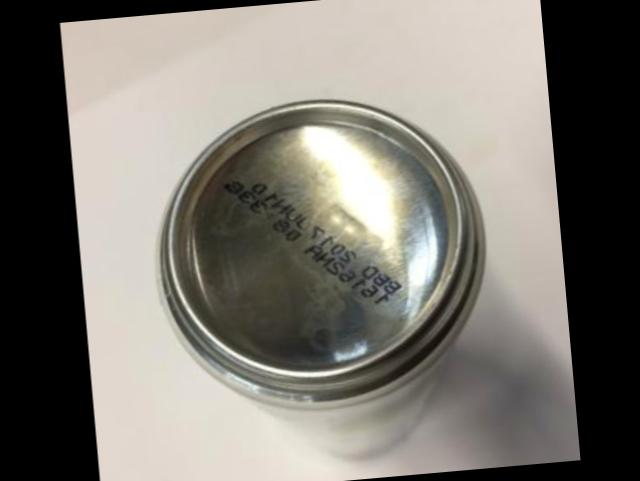metal: (155, 98, 482, 455)
